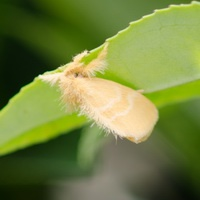insect: (38, 51, 157, 142)
